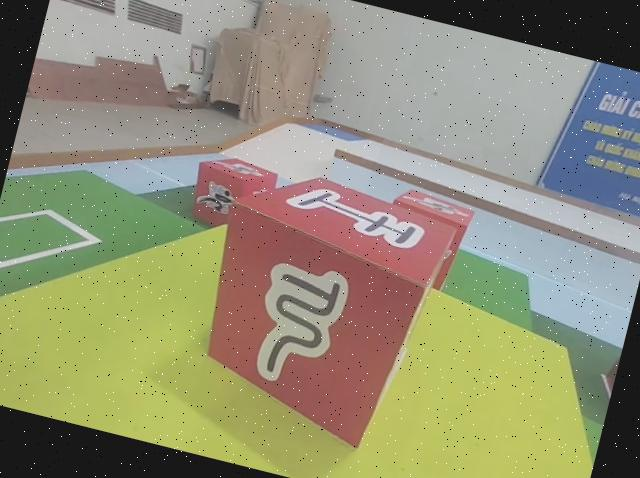R1: (183, 150, 281, 243)
R2 Fake: (178, 161, 458, 464)
